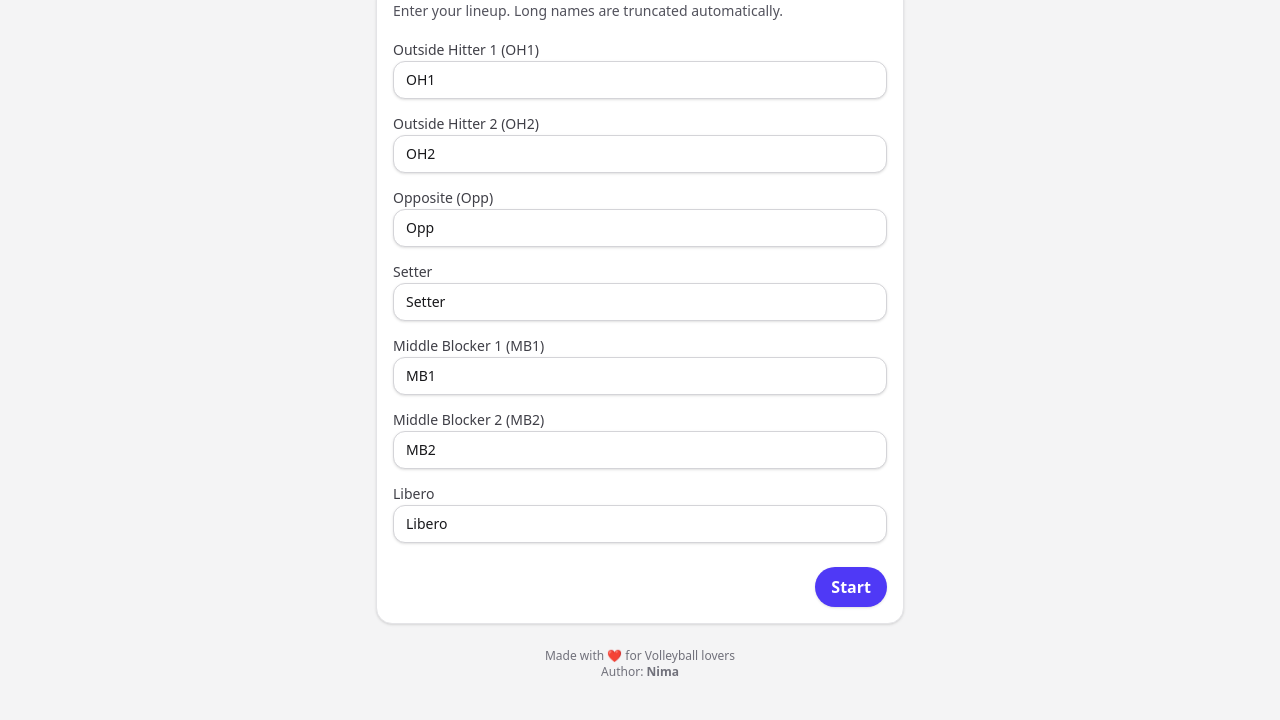
Test: App › submits the default lineup and shows the court controls
(page scrolled)
Click the button "Start" at x=851, y=586, box x1=815 y1=566 x2=887 y2=606
(page scrolled)
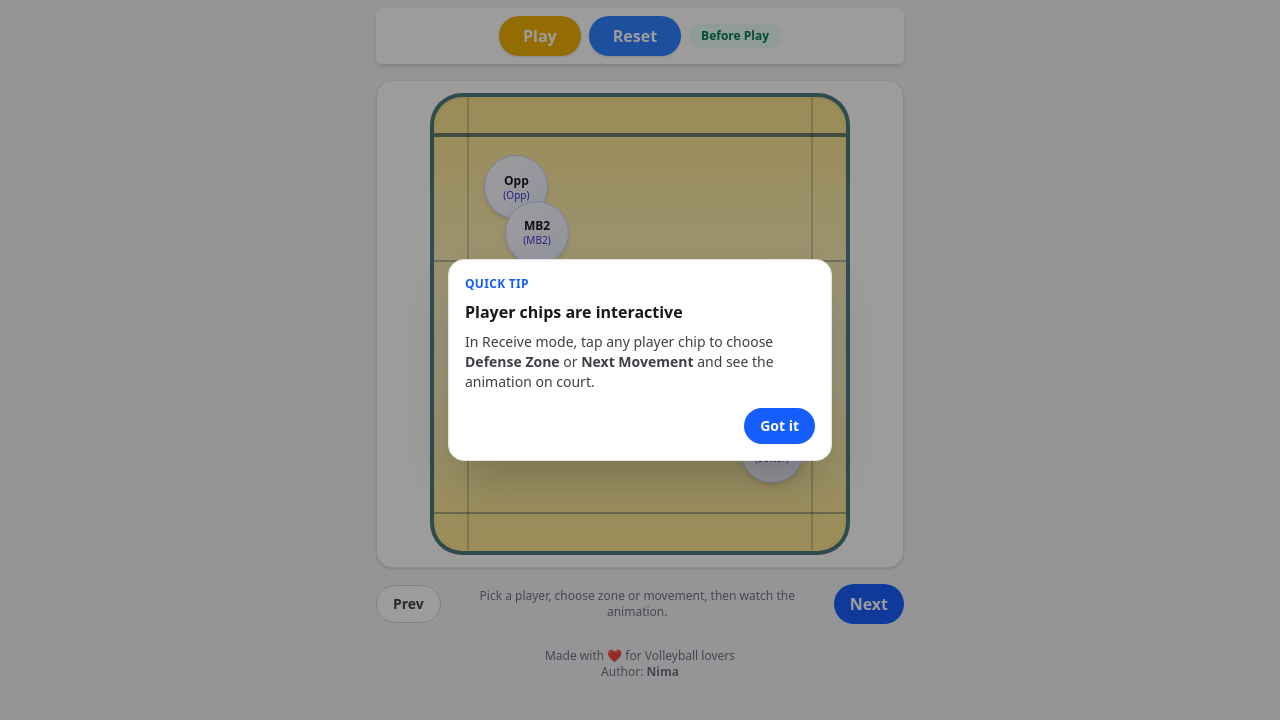
Check: the button "Play" is shown, box x1=499 y1=16 x2=581 y2=56
Check: the button "Reset" is shown, box x1=589 y1=16 x2=681 y2=56
